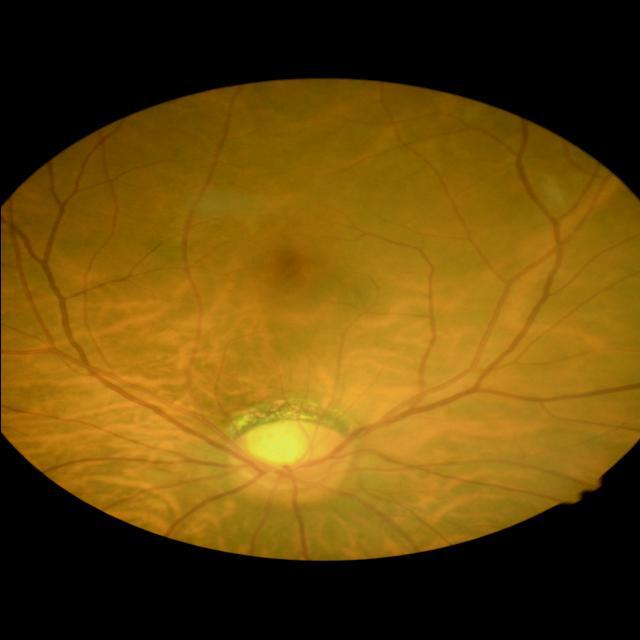cup: (244, 428, 314, 476)
disk: (228, 418, 358, 504)
